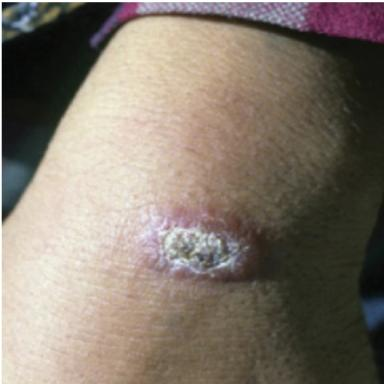Leishmanios: (137, 206, 259, 281)
